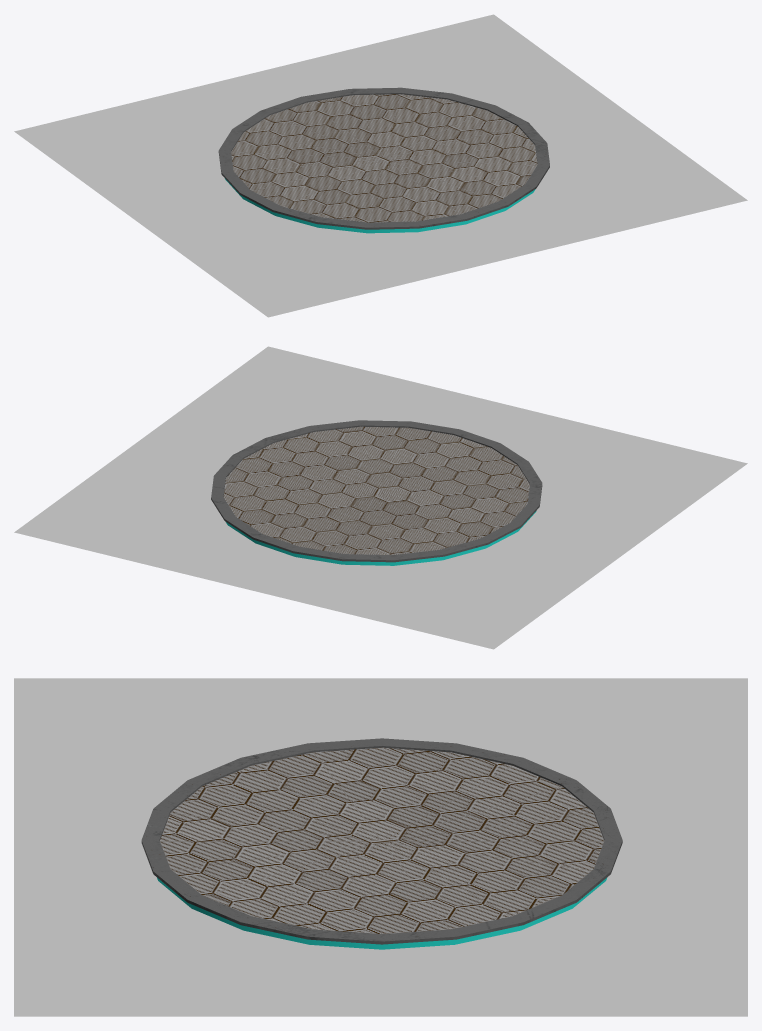
Rendered from SPW0110023.FBX.
The picture shows the model from 3 angles, top to bottom: view 1: azimuth 30°, elevation 25°; view 2: azimuth 150°, elevation 25°; view 3: azimuth 270°, elevation 25°; orthographic projection. The views are drawn at different scales.
Parts seen in each view (by area): view 1: smSPW0110023; view 2: smSPW0110023; view 3: smSPW0110023.
Part boxes in pixels (x1,y1,x2,y2): smSPW0110023: (14,14,747,317); smSPW0110023: (14,346,747,649); smSPW0110023: (14,678,747,1016).
Size of the model in its own units: 300 by 18.52 by 276.
2 materials, 1 textured.
